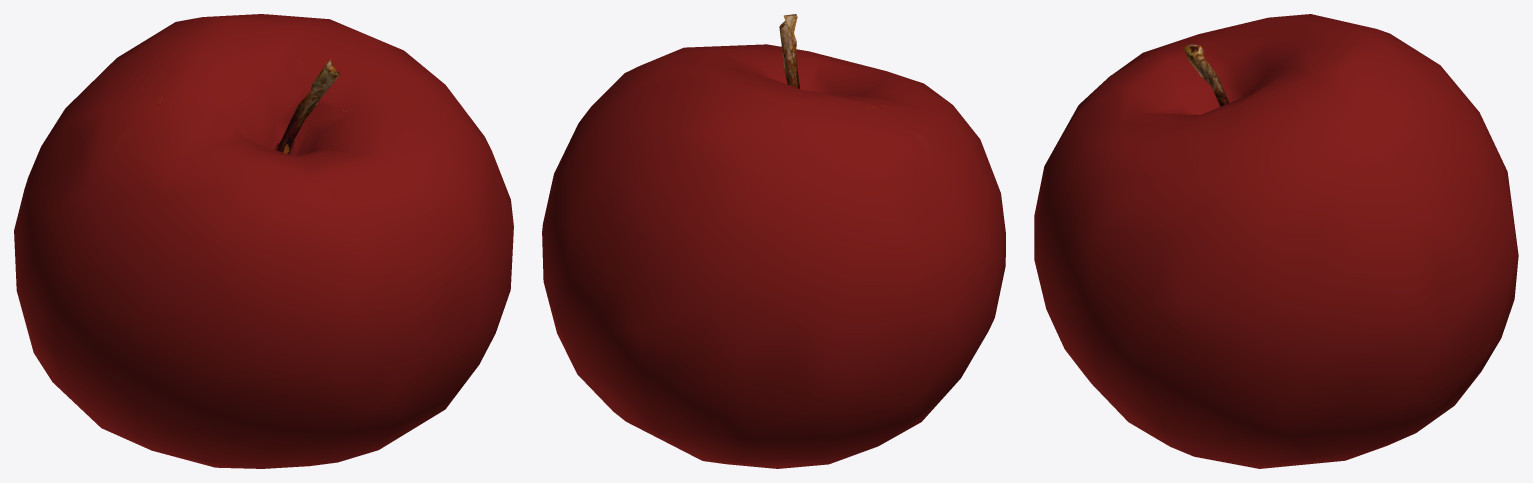
Rendered from Apple.fbx.
3 views of the same model, side by side, from view 1: azimuth 30°, elevation 25°; view 2: azimuth 150°, elevation 25°; view 3: azimuth 270°, elevation 25° (orthographic). The views are drawn at different scales.
Visible parts, largest first — view 1: food_apple; view 2: food_apple; view 3: food_apple.
Boxes of the visible parts, bbox=[...] form: food_apple: bbox=[14, 14, 513, 468]; food_apple: bbox=[542, 14, 1005, 468]; food_apple: bbox=[1034, 14, 1518, 468].
Size of the model in its own units: 11.47 by 10.03 by 11.29.
1 material, 1 textured.
